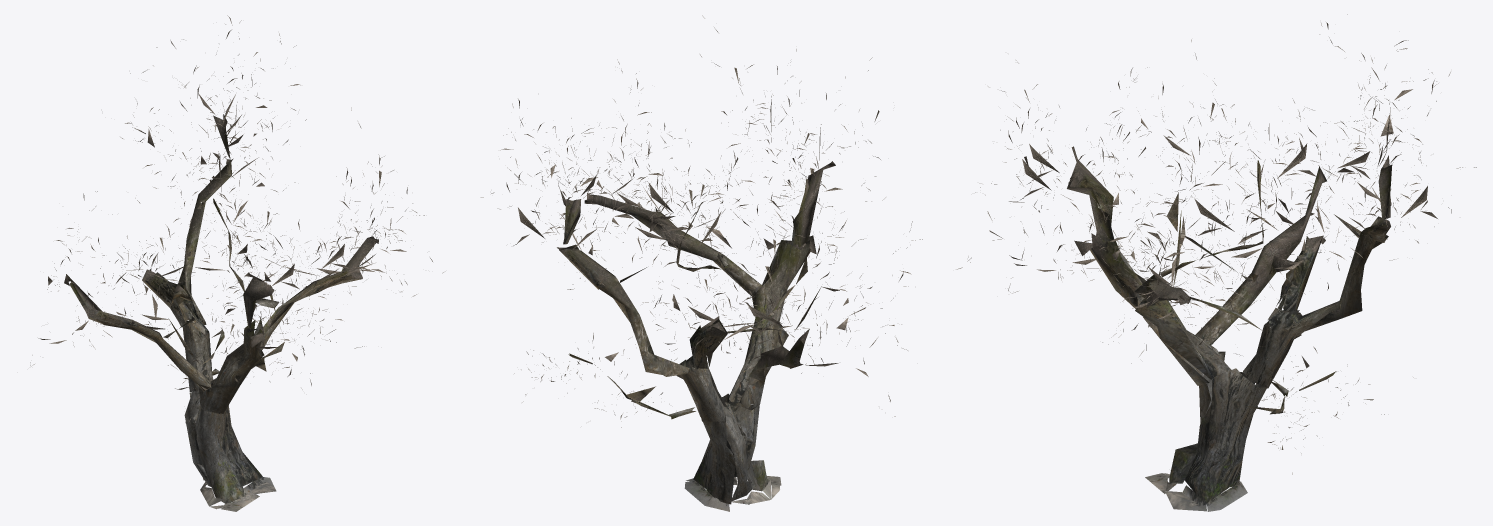
File: veyra_canopy_tree_forest.glb
3 renders of one model, left to right at view 1: azimuth 30°, elevation 25°; view 2: azimuth 150°, elevation 25°; view 3: azimuth 270°, elevation 25°, orthographic. The views are drawn at different scales.
Parts seen in each view (by area): view 1: Canopy Tree — forest LOD; view 2: Canopy Tree — forest LOD; view 3: Canopy Tree — forest LOD.
Part boxes in pixels (x1=…): Canopy Tree — forest LOD: x1=30, y1=15, x2=445, y2=511; Canopy Tree — forest LOD: x1=480, y1=15, x2=922, y2=511; Canopy Tree — forest LOD: x1=956, y1=14, x2=1476, y2=511.
Size of the model in its own units: 2.86 by 3.12 by 2.93.
2 materials, 2 textured.
